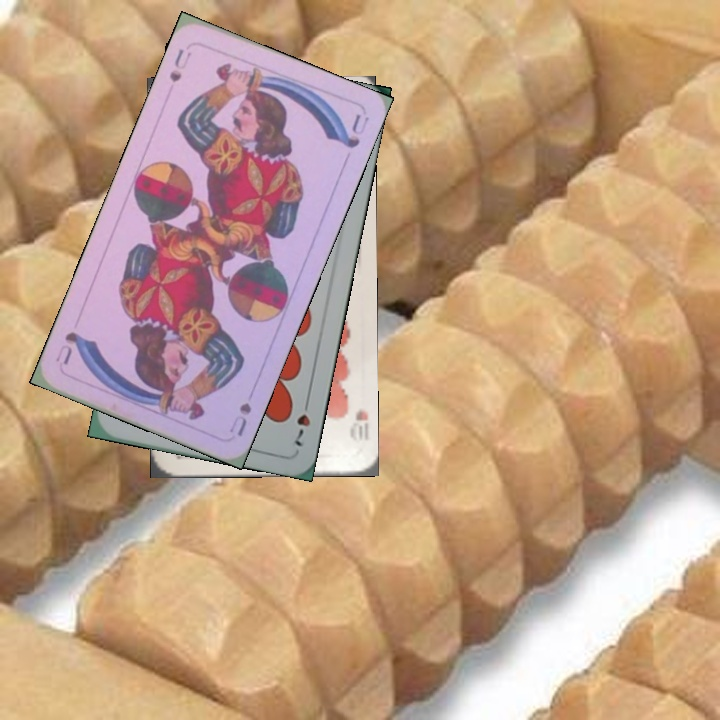H10: (346, 405, 370, 447)
H7: (290, 393, 313, 449)
SU: (225, 398, 254, 439), (165, 44, 194, 85)
